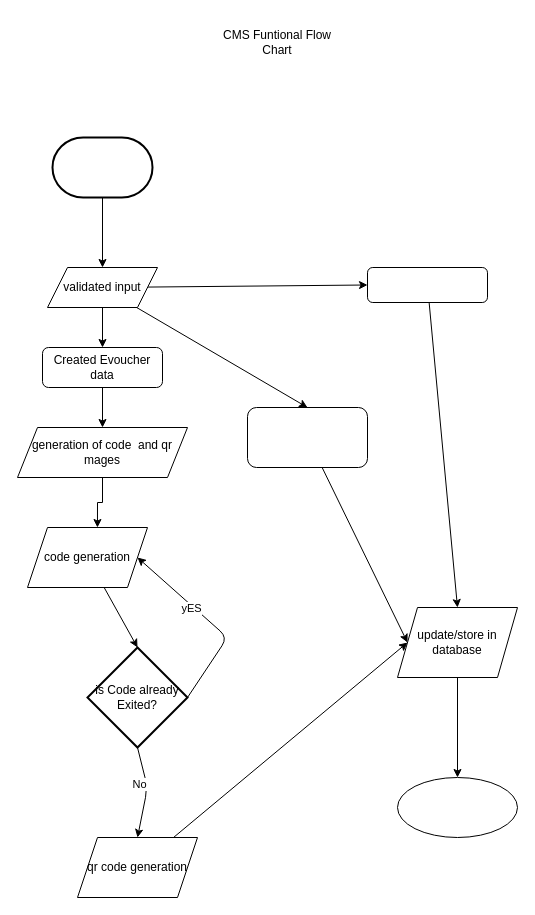
This 535x915 diagram has some shape labels left out. Each missing label, with the box of its shape:
change active status: (246, 406, 368, 468)
Edit Evoucher Data: (366, 266, 488, 302)
End: (396, 776, 518, 838)
start: (51, 136, 153, 198)
